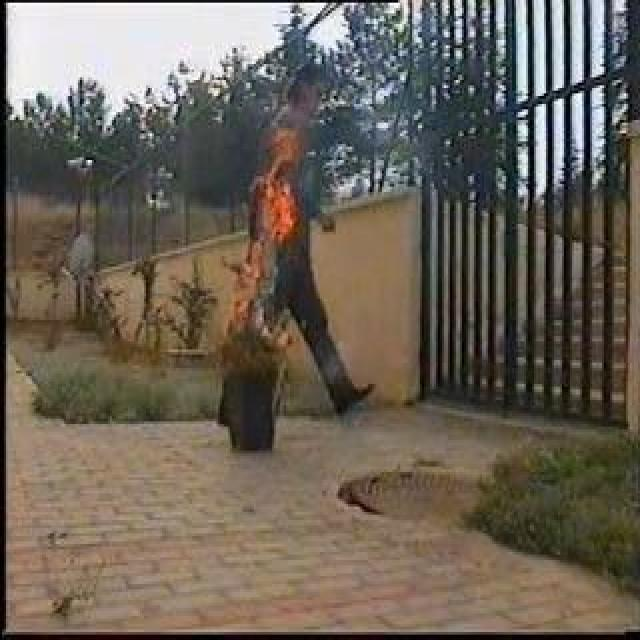Fire: (230, 129, 298, 311)
